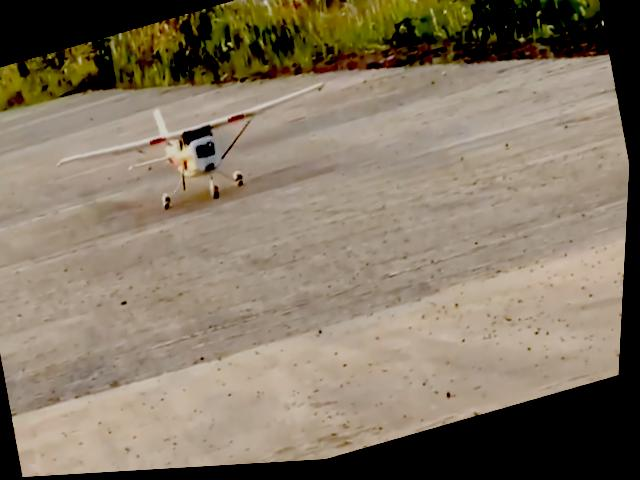plane: (46, 65, 342, 239)
